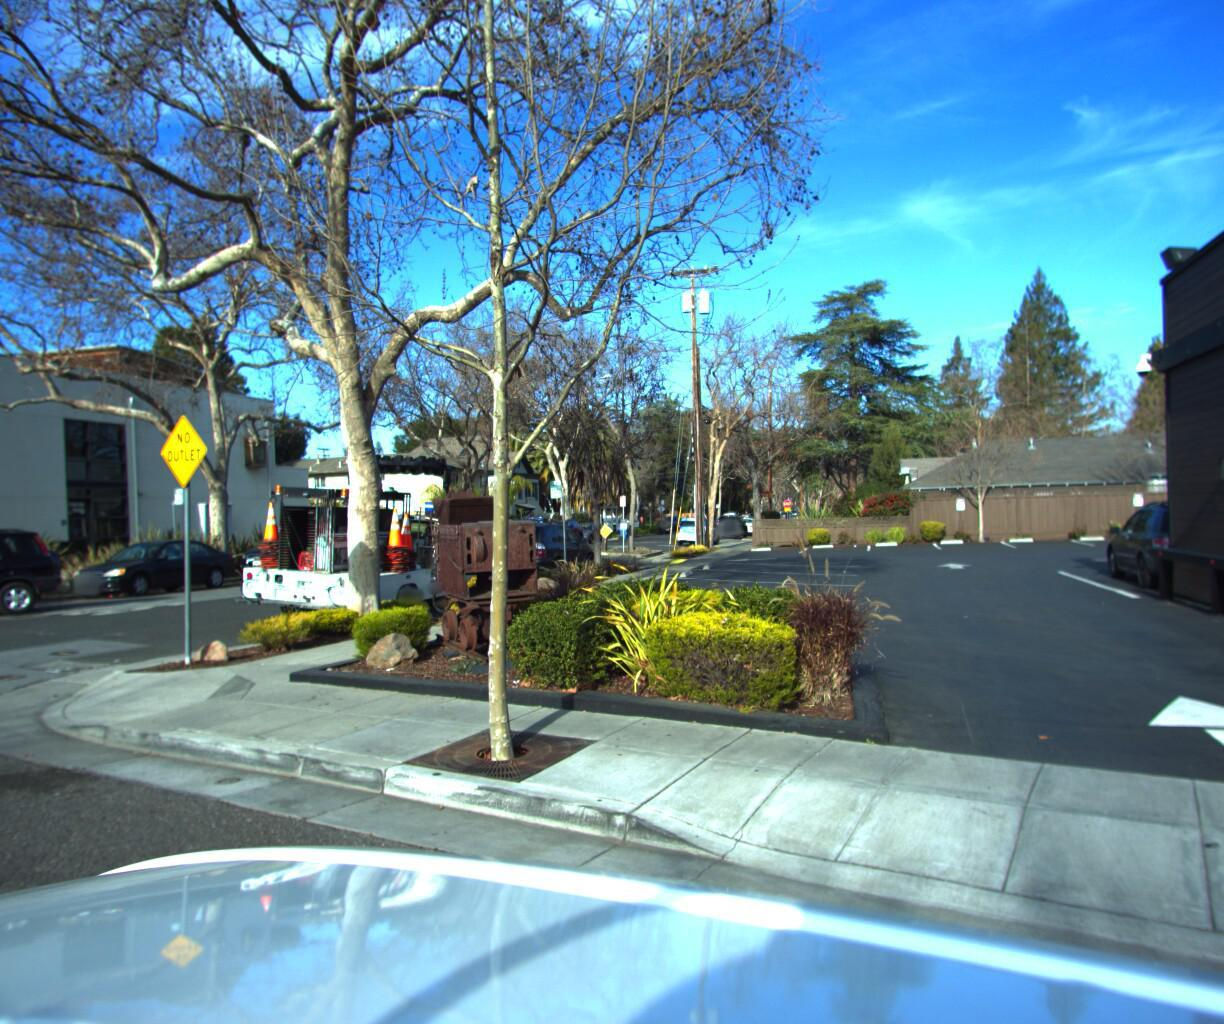car: (197, 439, 526, 642), (51, 528, 245, 600), (479, 507, 596, 584), (231, 514, 363, 580), (533, 510, 588, 544), (674, 508, 724, 542), (563, 513, 610, 539), (712, 506, 750, 533), (656, 511, 686, 530)
